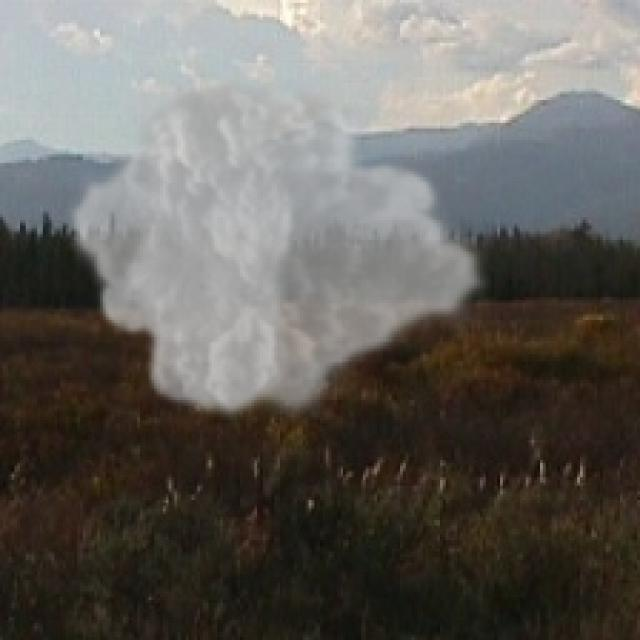Smoke: (66, 71, 492, 426)
